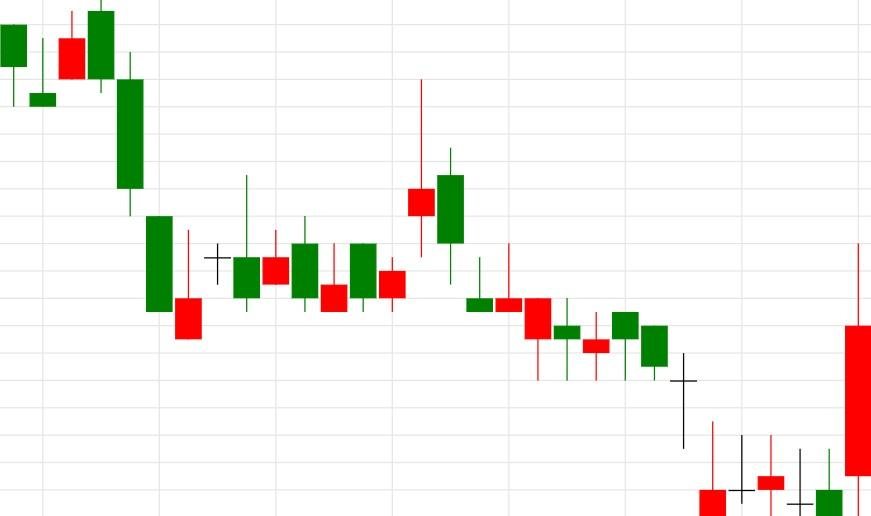inverse_hammer_rise: (612, 311, 727, 516)
three_black_crows_fall: (29, 0, 173, 313)
